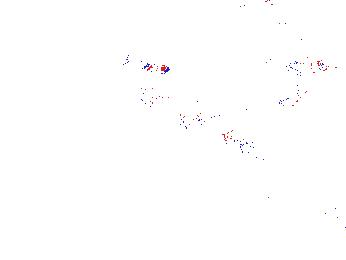glassfish: (131, 84, 196, 140)
red belly glassfish: (193, 100, 249, 129), (118, 52, 172, 77), (272, 53, 327, 75), (219, 130, 251, 152)
